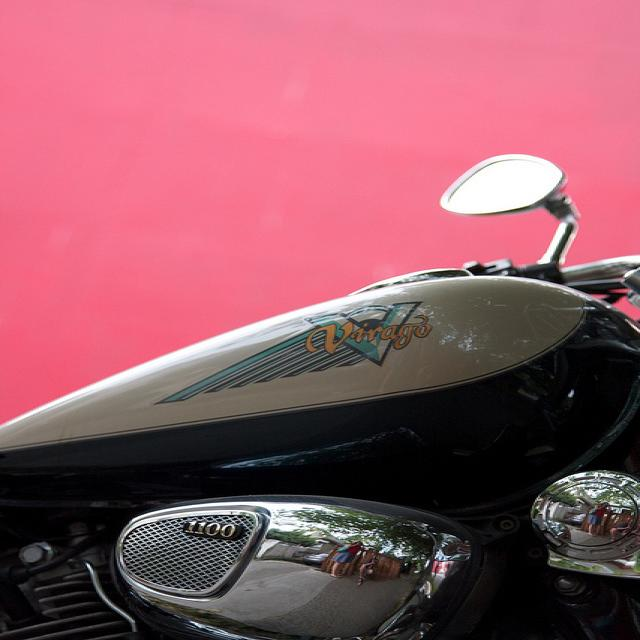motor: (2, 154, 640, 634)
